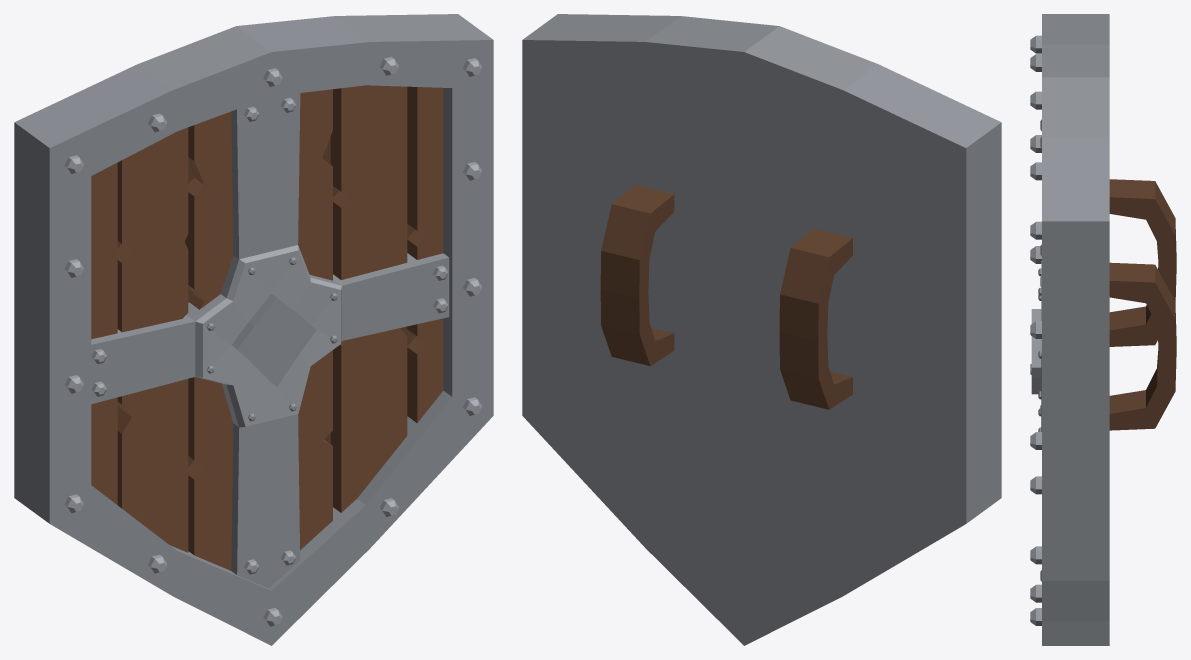
File: paladin-shield-2.glb
The picture shows the model from 3 angles, left to right: view 1: azimuth 30°, elevation 25°; view 2: azimuth 150°, elevation 25°; view 3: azimuth 270°, elevation 25°; orthographic projection. The views are drawn at different scales.
Visible parts, largest first — view 1: Shield_Heater_Cube.009; view 2: Shield_Heater_Cube.009; view 3: Shield_Heater_Cube.009.
Boxes of the visible parts, box(x1,y1,x2,y2) form: Shield_Heater_Cube.009: box(14, 14, 493, 645); Shield_Heater_Cube.009: box(522, 14, 1001, 645); Shield_Heater_Cube.009: box(1030, 14, 1176, 645).
Size of the model in its own units: 2.01 by 2.56 by 0.597.
